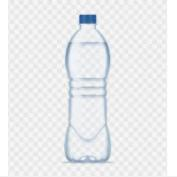plastic_bottle: (63, 11, 113, 165)
